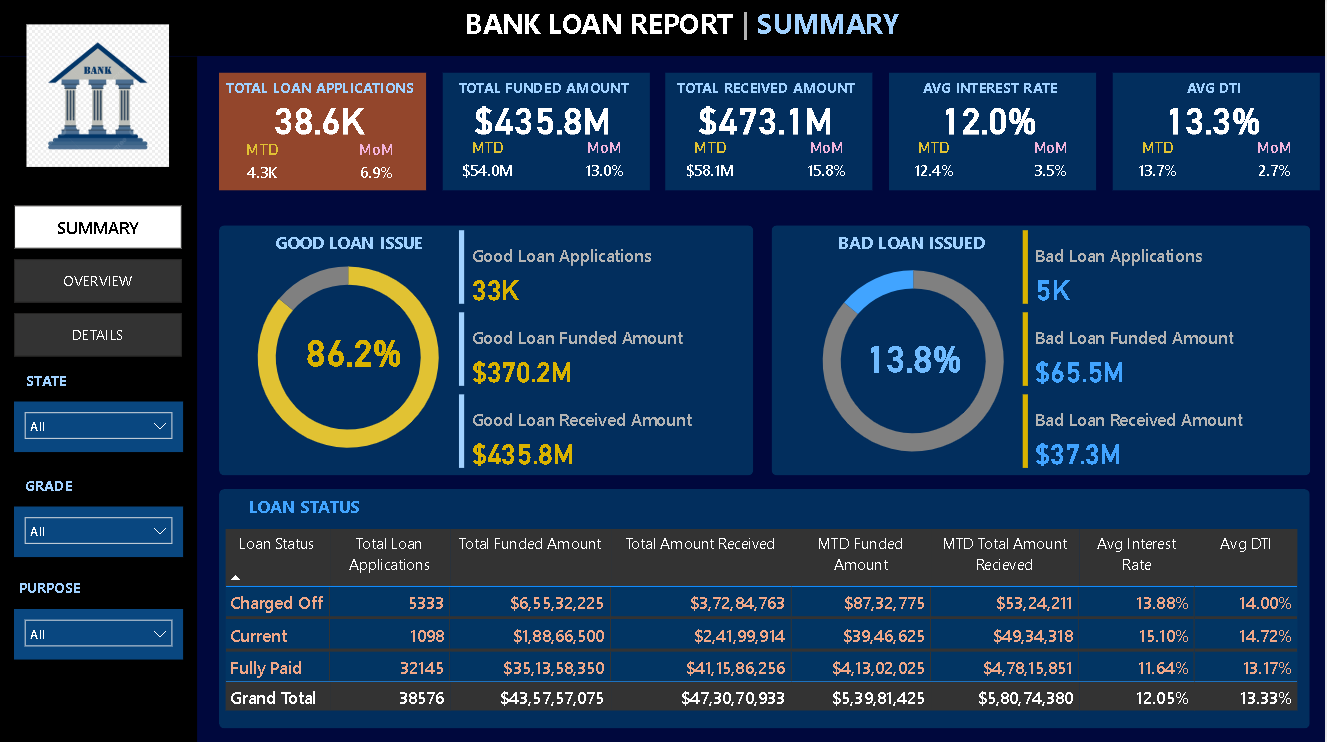

What the dashboard file says about the page in this screenshot:
{"tool":"powerbi","page":{"name":"SUMMARY","canvas":[1280,720],"ordinal":0},"visuals":[{"type":"shape","box":[0,55.7,191.4,664.3],"z":0},{"type":"shape","box":[213.4,71.6,199.9,113.4],"z":0,"group":"g1"},{"type":"shape","box":[428.8,71.6,199.9,113.4],"z":0,"group":"g2"},{"type":"shape","box":[644.2,71.6,199.9,113.4],"z":0,"group":"g3"},{"type":"shape","box":[859.6,71.6,199.9,113.4],"z":0,"group":"g4"},{"type":"shape","box":[1075,71.6,199.9,113.4],"z":0,"group":"g5"},{"type":"shape","box":[0,0,1280.3,55],"z":1000},{"type":"card","fields":{"Values":["bank_loan_data.Total Loan Applications"]},"box":[233.7,94.6,152.6,41.9],"z":1000,"group":"g1"},{"type":"card","fields":{"Values":["bank_loan_data.Total Funded Amount"]},"box":[449.1,94.6,152.6,41.9],"z":1000,"group":"g2"},{"type":"card","fields":{"Values":["bank_loan_data.Total Amount Received"]},"box":[664.5,94.6,152.6,41.9],"z":1000,"group":"g3"},{"type":"card","fields":{"Values":["bank_loan_data.Avg Interest Rate"]},"box":[879.9,94.6,152.6,41.9],"z":1000,"group":"g4"},{"type":"card","fields":{"Values":["bank_loan_data.Avg DTI"]},"box":[1095.3,94.6,152.6,41.9],"z":1000,"group":"g5"},{"type":"textbox","box":[445.7,0,448.4,45.9],"z":2000},{"type":"textbox","box":[208,71.6,205.3,33.8],"z":2000,"group":"g1"},{"type":"textbox","box":[423.4,71.6,205.3,33.8],"z":2000,"group":"g2"},{"type":"textbox","box":[638.8,71.6,205.3,33.8],"z":2000,"group":"g3"},{"type":"textbox","box":[854.2,71.6,205.3,33.8],"z":2000,"group":"g4"},{"type":"textbox","box":[1069.6,71.6,205.3,33.8],"z":2000,"group":"g5"},{"type":"card","title":"MTD","fields":{"Values":["bank_loan_data.MTD Funded Amount"]},"box":[438.4,134.7,67.5,50],"z":3000,"group":"g2"},{"type":"card","title":"MTD","fields":{"Values":["bank_loan_data.MTD Total Amount Recieved"]},"box":[653.8,134.7,67.5,50],"z":3000,"group":"g3"},{"type":"card","title":"MTD","fields":{"Values":["bank_loan_data.MTD Avg Int Rate"]},"box":[869.2,134.7,67.5,50],"z":3000,"group":"g4"},{"type":"card","title":"MTD","fields":{"Values":["bank_loan_data.MTD Avg DTI"]},"box":[1084.6,134.7,67.5,50],"z":3000,"group":"g5"},{"type":"card","title":"MTD","fields":{"Values":["bank_loan_data.MTD Loan Applications"]},"box":[233.7,136.4,43.2,48.6],"z":3000,"group":"g1"},{"type":"textbox","box":[14.5,456,80.8,33.8],"z":3000},{"type":"card","title":"MoM","fields":{"Values":["bank_loan_data.MoM Total Funded Amount"]},"box":[558.6,134.7,51.3,50],"z":4000,"group":"g2"},{"type":"card","title":"MoM","fields":{"Values":["bank_loan_data.MoM Total Amount Recieved"]},"box":[774,134.7,51.3,50],"z":4000,"group":"g3"},{"type":"card","title":"MoM","fields":{"Values":["bank_loan_data.MoM Avg Int Rate"]},"box":[989.4,134.7,51.3,50],"z":4000,"group":"g4"},{"type":"card","title":"MoM","fields":{"Values":["bank_loan_data.MoM Avg DTI"]},"box":[1204.8,134.7,51.3,50],"z":4000,"group":"g5"},{"type":"card","title":"MoM","fields":{"Values":["bank_loan_data.MoM Loan Application"]},"box":[343.1,136.4,43.2,48.6],"z":4000,"group":"g1"},{"type":"textbox","box":[2.9,554.3,92.9,34.3],"z":4000},{"type":"group","id":"g1","title":"Group 1","box":[208,71.6,205.3,113.4],"z":5000},{"type":"group","id":"g2","title":"Group 1","box":[423.4,71.6,205.3,113.4],"z":6000},{"type":"shape","box":[212.9,218.6,515.7,241.4],"z":7000},{"type":"textbox","box":[235.7,218.6,205.7,34.3],"z":8000},{"type":"group","id":"g3","title":"Group 1","box":[638.8,71.6,205.3,113.4],"z":9000},{"type":"group","id":"g4","title":"Group 1","box":[854.2,71.6,205.3,113.4],"z":10000},{"type":"group","id":"g5","title":"Group 1","box":[1069.6,71.6,205.3,113.4],"z":11000},{"type":"card","fields":{"Values":["bank_loan_data.Good Loan %"]},"box":[267.1,318.6,152.9,41.4],"z":12000},{"type":"donutChart","fields":{"Category":["bank_loan_data.Good vs Bad Loan"],"Y":["bank_loan_data.Total Loan Applications"]},"box":[212.9,231.4,250,228.6],"z":13000},{"type":"shape","box":[745.7,218.6,520,241.4],"z":14000},{"type":"cardVisual","fields":{"Data":["bank_loan_data.Good Loan Applications","bank_loan_data.Good Loan Funded Amount","bank_loan_data.Good Loan Received Amount"]},"box":[438.6,218.6,282.9,241.4],"z":15000},{"type":"donutChart","fields":{"Category":["bank_loan_data.Good vs Bad Loan"],"Y":["bank_loan_data.Total Loan Applications"]},"box":[757.1,235.7,250,228.6],"z":16000},{"type":"textbox","box":[778.6,218.6,205.7,40],"z":17000},{"type":"card","fields":{"Values":["bank_loan_data.Bad Loan %"]},"box":[807.1,324.3,152.9,41.4],"z":18000},{"type":"cardVisual","fields":{"Data":["bank_loan_data.Bad Loan Applications","bank_loan_data.Bad Loan Funded Amount","bank_loan_data.Bad Loan Received Amount"]},"box":[982.9,218.6,282.9,241.4],"z":19000},{"type":"shape","box":[212.9,472.9,1052.9,231.4],"z":20000},{"type":"tableEx","fields":{"Values":["bank_loan_data.loan_status","bank_loan_data.Total Loan Applications","bank_loan_data.Total Funded Amount","bank_loan_data.Total Amount Received","bank_loan_data.MTD Funded Amount","bank_loan_data.MTD Total Amount Recieved","bank_loan_data.Avg Interest Rate","bank_loan_data.Avg DTI"]},"box":[212.9,507.1,1052.9,202.9],"z":21000},{"type":"textbox","box":[191.4,472.9,205.7,34.3],"z":22000},{"type":"slicer","fields":{"Values":["bank_loan_data.address_state"]},"box":[14.3,388.6,162.9,48.6],"z":23000},{"type":"textbox","box":[14.5,354.7,62.7,33.8],"z":24000},{"type":"slicer","fields":{"Values":["bank_loan_data.grade"]},"box":[14.3,490,162.9,48.6],"z":25000},{"type":"slicer","fields":{"Values":["bank_loan_data.purpose"]},"box":[14.3,588.6,162.9,48.6],"z":26000},{"type":"pageNavigator","box":[14.3,198.6,162.9,147.1],"z":27000},{"type":"image","box":[21.4,15.7,147.1,155.7],"z":28000}]}

Visuals, with their boxes in screenshot pixels (x1, y1, x2, y2), scaled from the page's 1280x720 canvas onto the 1327x742 screenshot:
shape: bbox=[0, 57, 198, 741]
shape: bbox=[221, 74, 428, 191]
shape: bbox=[445, 74, 652, 191]
shape: bbox=[668, 74, 875, 191]
shape: bbox=[891, 74, 1098, 191]
shape: bbox=[1114, 74, 1322, 191]
shape: bbox=[0, 0, 1326, 57]
card - bank_loan_data.Total Loan Applications: bbox=[242, 97, 400, 141]
card - bank_loan_data.Total Funded Amount: bbox=[466, 97, 624, 141]
card - bank_loan_data.Total Amount Received: bbox=[689, 97, 847, 141]
card - bank_loan_data.Avg Interest Rate: bbox=[912, 97, 1070, 141]
card - bank_loan_data.Avg DTI: bbox=[1136, 97, 1294, 141]
textbox: bbox=[462, 0, 927, 47]
textbox: bbox=[216, 74, 428, 109]
textbox: bbox=[439, 74, 652, 109]
textbox: bbox=[662, 74, 875, 109]
textbox: bbox=[886, 74, 1098, 109]
textbox: bbox=[1109, 74, 1322, 109]
"MTD" card: bbox=[454, 139, 524, 190]
"MTD" card: bbox=[678, 139, 748, 190]
"MTD" card: bbox=[901, 139, 971, 190]
"MTD" card: bbox=[1124, 139, 1194, 190]
"MTD" card: bbox=[242, 141, 287, 191]
textbox: bbox=[15, 470, 99, 505]
"MoM" card: bbox=[579, 139, 632, 190]
"MoM" card: bbox=[802, 139, 856, 190]
"MoM" card: bbox=[1026, 139, 1079, 190]
"MoM" card: bbox=[1249, 139, 1302, 190]
"MoM" card: bbox=[356, 141, 400, 191]
textbox: bbox=[3, 571, 99, 607]
"Group 1" group: bbox=[216, 74, 428, 191]
"Group 1" group: bbox=[439, 74, 652, 191]
shape: bbox=[221, 225, 755, 474]
textbox: bbox=[244, 225, 458, 261]
"Group 1" group: bbox=[662, 74, 875, 191]
"Group 1" group: bbox=[886, 74, 1098, 191]
"Group 1" group: bbox=[1109, 74, 1322, 191]
card - bank_loan_data.Good Loan %: bbox=[277, 328, 435, 371]
donutChart - bank_loan_data.Good vs Bad Loan x bank_loan_data.Total Loan Applications: bbox=[221, 238, 480, 474]
shape: bbox=[773, 225, 1312, 474]
cardVisual - bank_loan_data.Good Loan Applications x bank_loan_data.Good Loan Funded Amount: bbox=[455, 225, 748, 474]
donutChart - bank_loan_data.Good vs Bad Loan x bank_loan_data.Total Loan Applications: bbox=[785, 243, 1044, 478]
textbox: bbox=[807, 225, 1020, 267]
card - bank_loan_data.Bad Loan %: bbox=[837, 334, 995, 377]
cardVisual - bank_loan_data.Bad Loan Applications x bank_loan_data.Bad Loan Funded Amount: bbox=[1019, 225, 1312, 474]
shape: bbox=[221, 487, 1312, 726]
tableEx - bank_loan_data.loan_status x bank_loan_data.Total Loan Applications: bbox=[221, 523, 1312, 732]
textbox: bbox=[198, 487, 412, 523]
slicer - bank_loan_data.address_state: bbox=[15, 400, 184, 451]
textbox: bbox=[15, 366, 80, 400]
slicer - bank_loan_data.grade: bbox=[15, 505, 184, 555]
slicer - bank_loan_data.purpose: bbox=[15, 607, 184, 657]
pageNavigator: bbox=[15, 205, 184, 356]
image: bbox=[22, 16, 175, 177]
